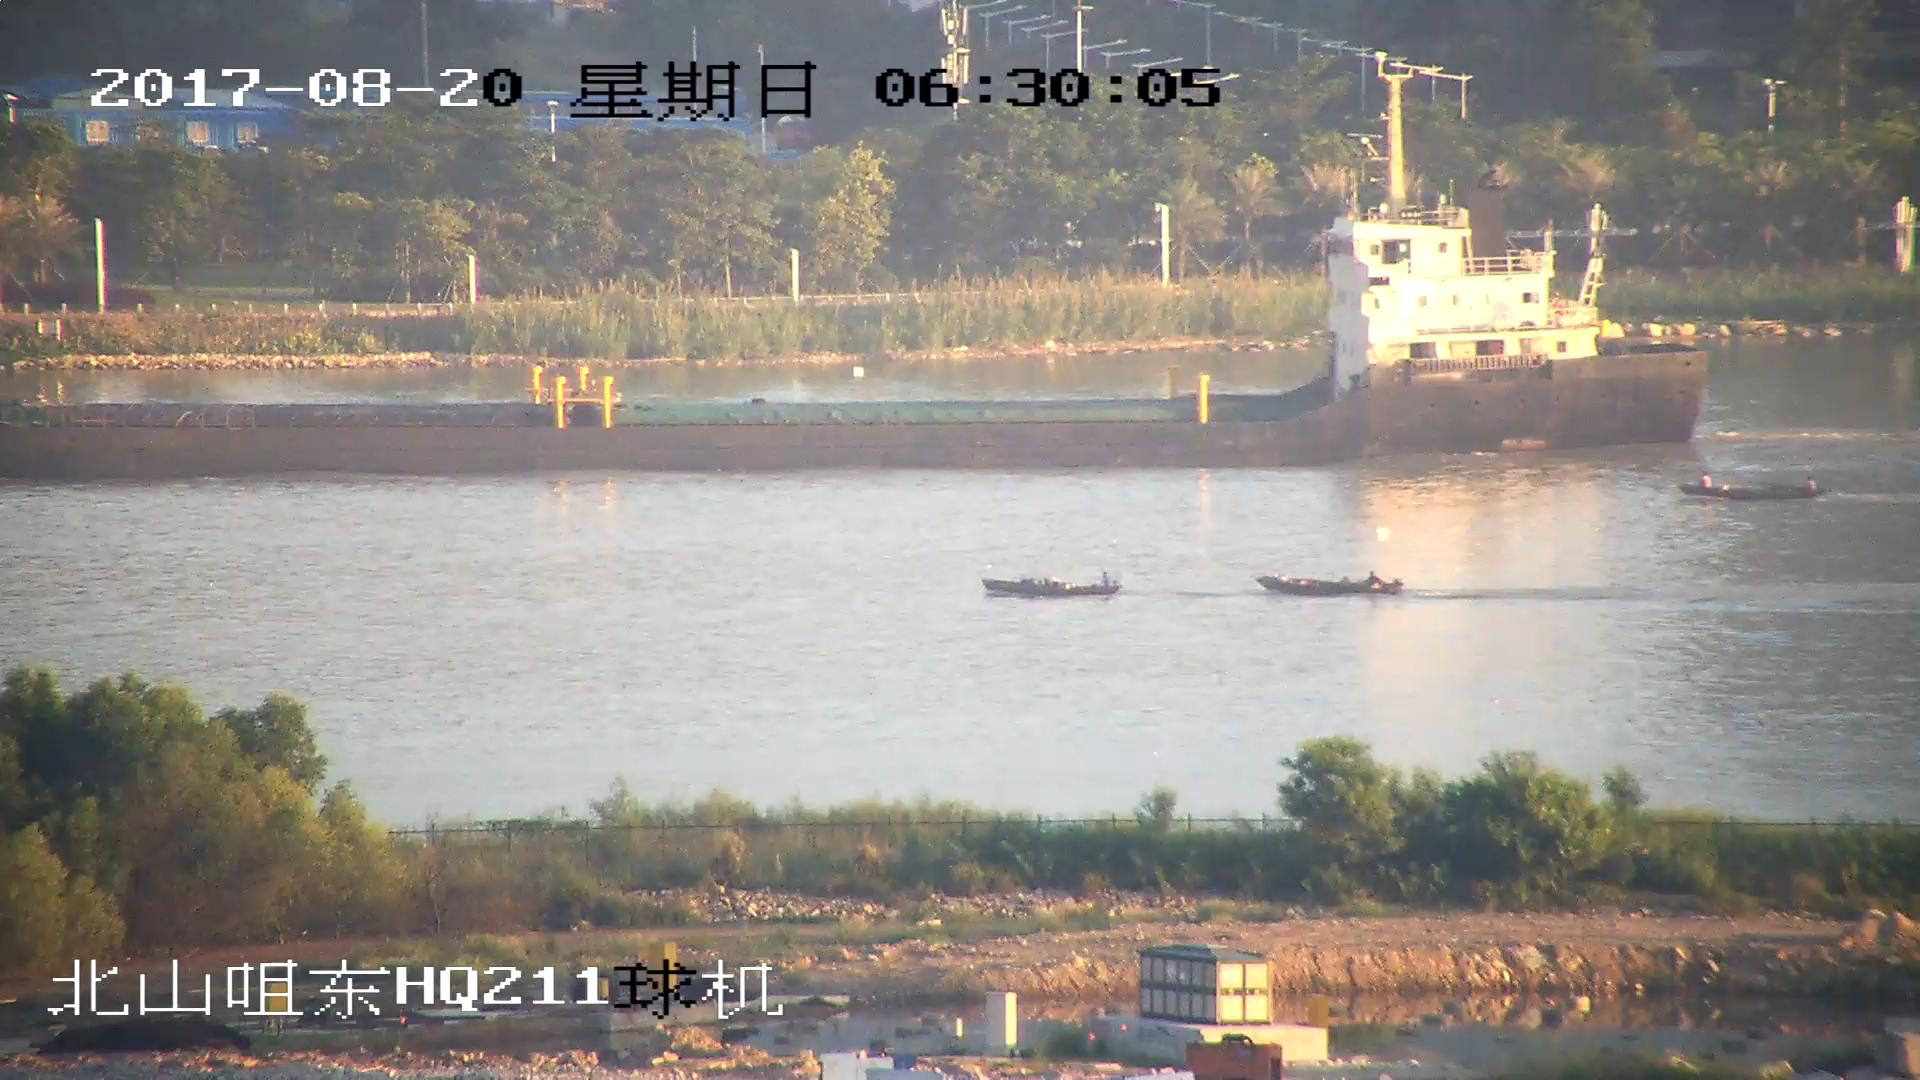fishing boat: (1679, 470, 1815, 504), (1259, 568, 1401, 596), (983, 572, 1123, 600)
general cargo ship: (1, 123, 1713, 474)
